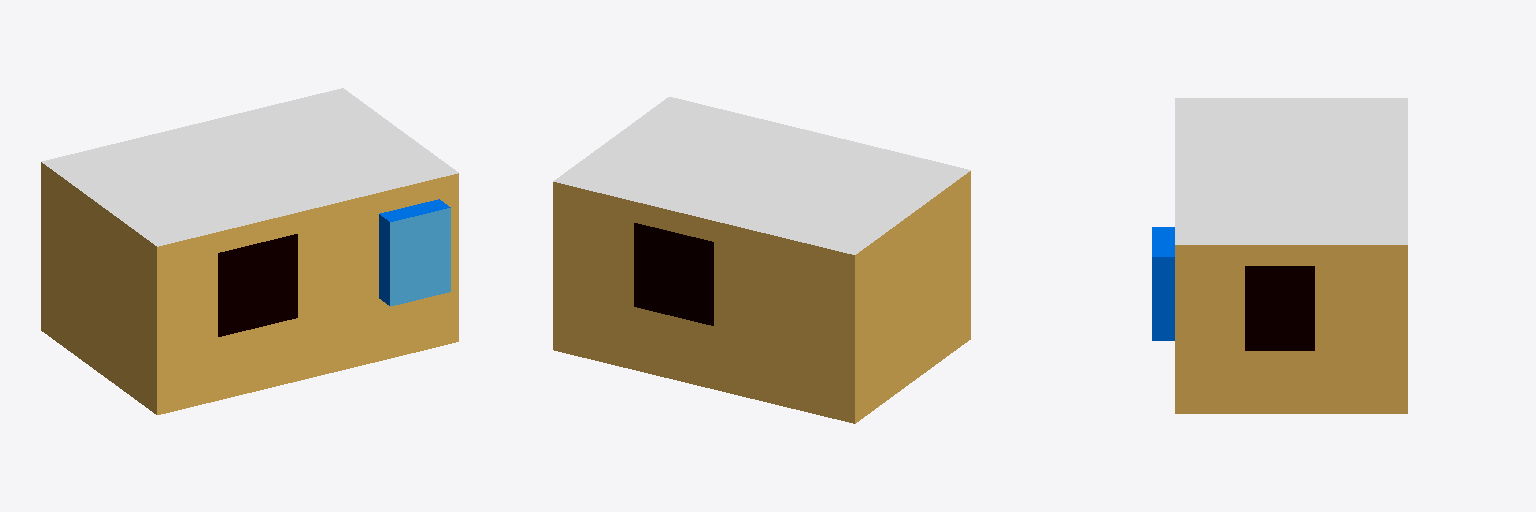
The model's file is room_with_mirrors.obj.
3 renders of one model, left to right at view 1: azimuth 30°, elevation 25°; view 2: azimuth 150°, elevation 25°; view 3: azimuth 270°, elevation 25°, orthographic.
Visible parts, largest first — view 1: Mesh1 Model; view 2: Mesh1 Model; view 3: Mesh1 Model.
Boxes of the visible parts, <box> form: Mesh1 Model: <box>41,88,458,414</box>; Mesh1 Model: <box>553,97,970,423</box>; Mesh1 Model: <box>1152,98,1407,413</box>.
Size of the model in its own units: 180 by 96 by 132.